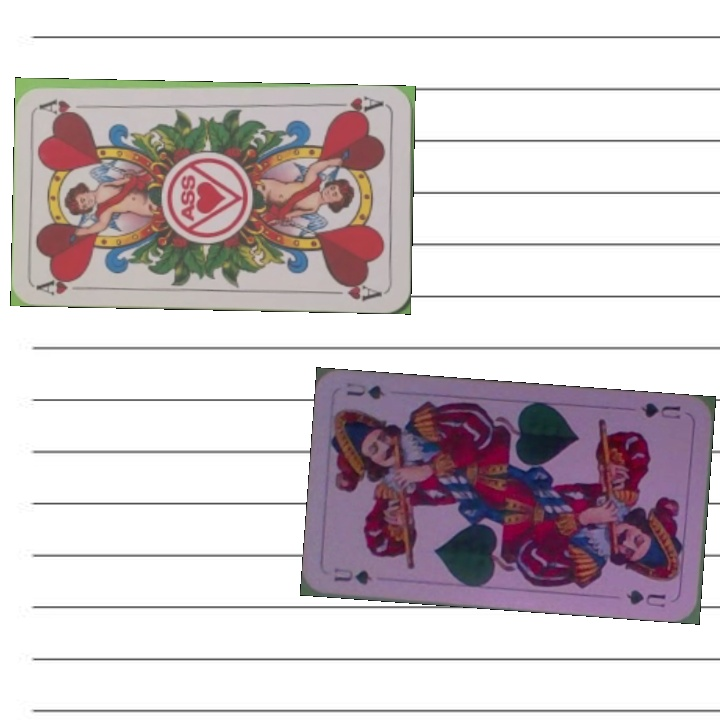GU: (637, 398, 683, 422), (329, 564, 375, 587)
HA: (35, 271, 95, 298), (329, 92, 388, 119)
